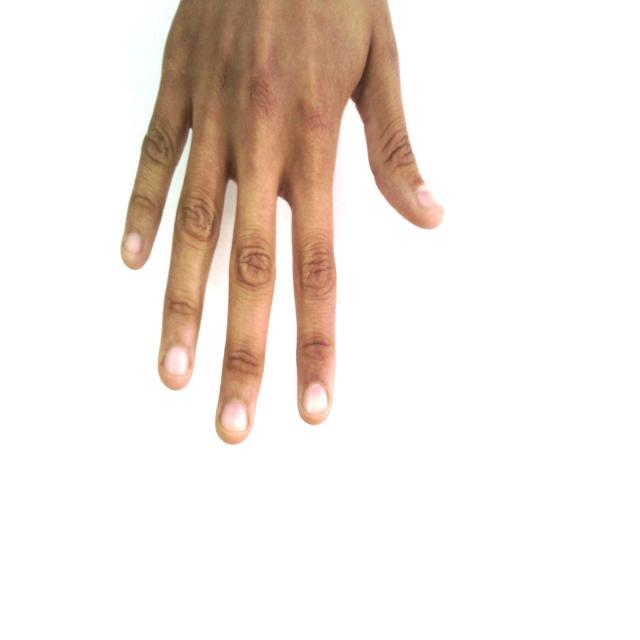Fingernail: (222, 402, 247, 433), (303, 384, 327, 416), (165, 347, 187, 375), (418, 188, 438, 208), (125, 233, 142, 255)
